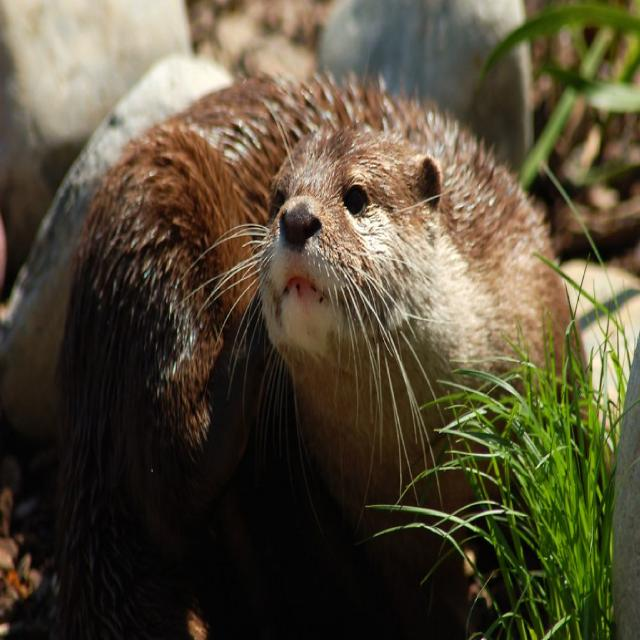otter: (73, 75, 592, 554)
